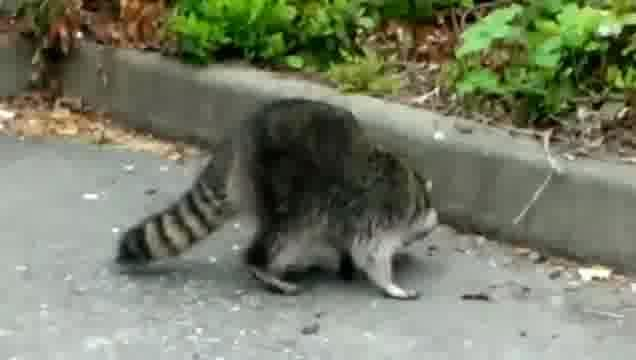raccoon: (114, 94, 440, 301)
